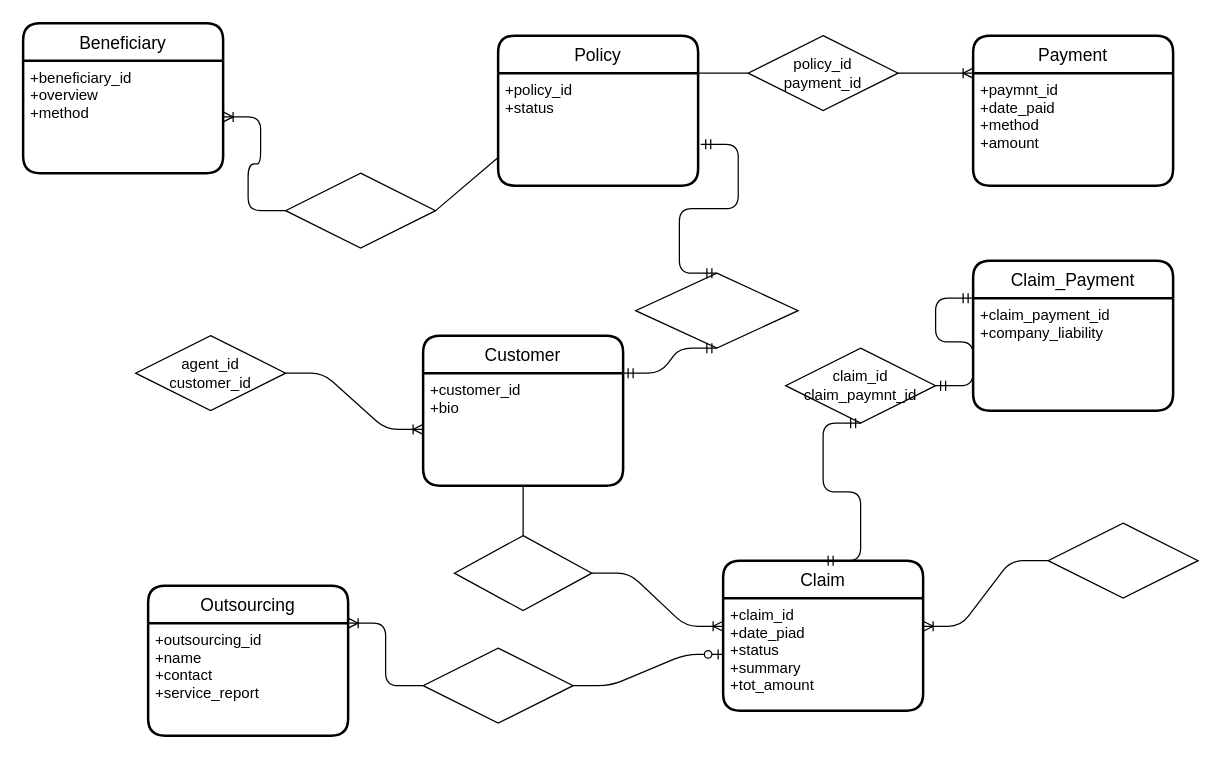
The diagram is 1220 pixels wide and 758 high, and some of its shapes have lost their labels. The shapes that lost their labels are listed below. From the top down, each one's centre as x and y in pixels, then its label:
At (360,210): "beneficiary_id policy_id".
At (716,310): "policy_id customer_id".
At (522,572): "customer_id claim_id".
At (1122,560): "claim_id adjuster_id".
At (497,685): "outsrcng_id claim_id".
